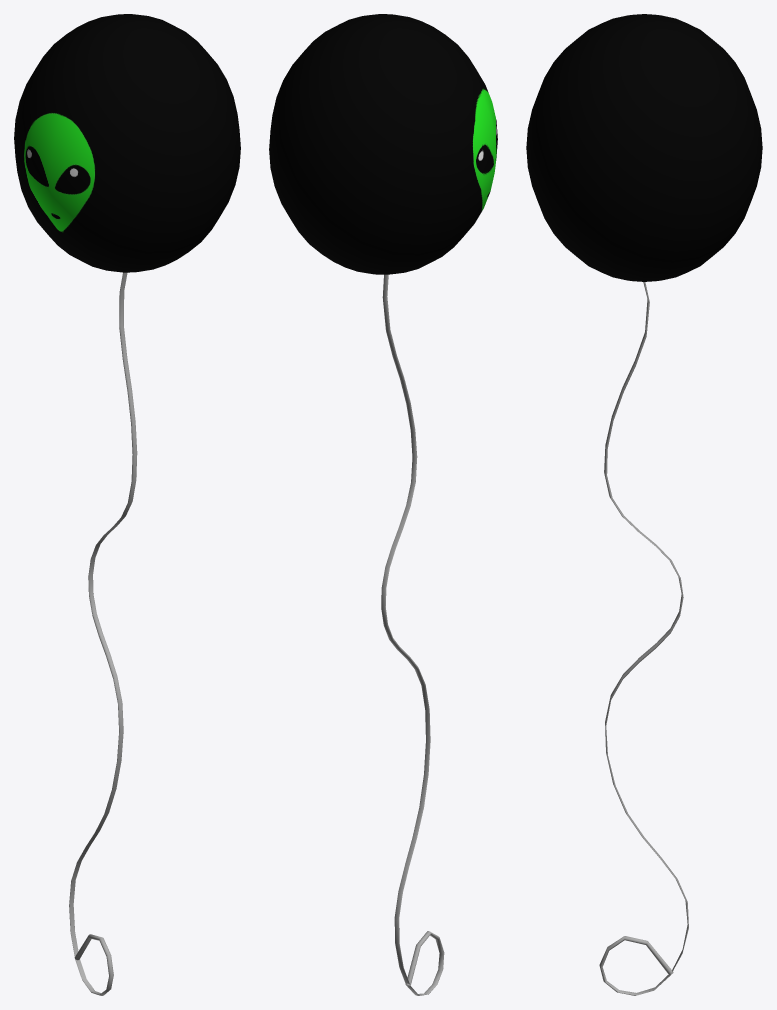
File: AyyLmao.fbx
The picture shows the model from 3 angles, left to right: view 1: azimuth 30°, elevation 25°; view 2: azimuth 150°, elevation 25°; view 3: azimuth 270°, elevation 25°; orthographic projection. The views are drawn at different scales.
Parts seen in each view (by area): view 1: nurbsToPoly2; view 2: nurbsToPoly2; view 3: nurbsToPoly2.
Part boxes in pixels (x1,y1,x2,y2): nurbsToPoly2: (14, 14, 240, 995); nurbsToPoly2: (269, 14, 497, 995); nurbsToPoly2: (526, 14, 762, 995).
Bounding box in the file's own units: 9.9 × 45.84 × 9.9.
Materials: 2 (1 with a texture image).
